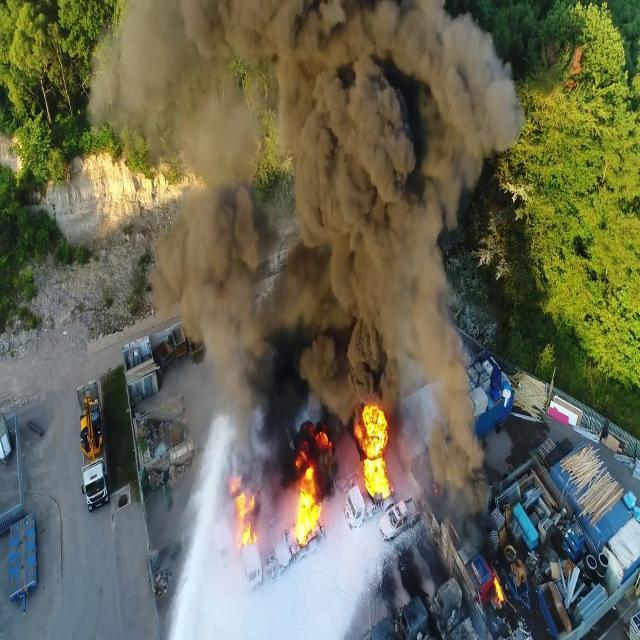Fire: (352, 393, 396, 503), (290, 451, 326, 547), (227, 478, 261, 548), (488, 565, 506, 611)
Smoke: (145, 1, 520, 452)
